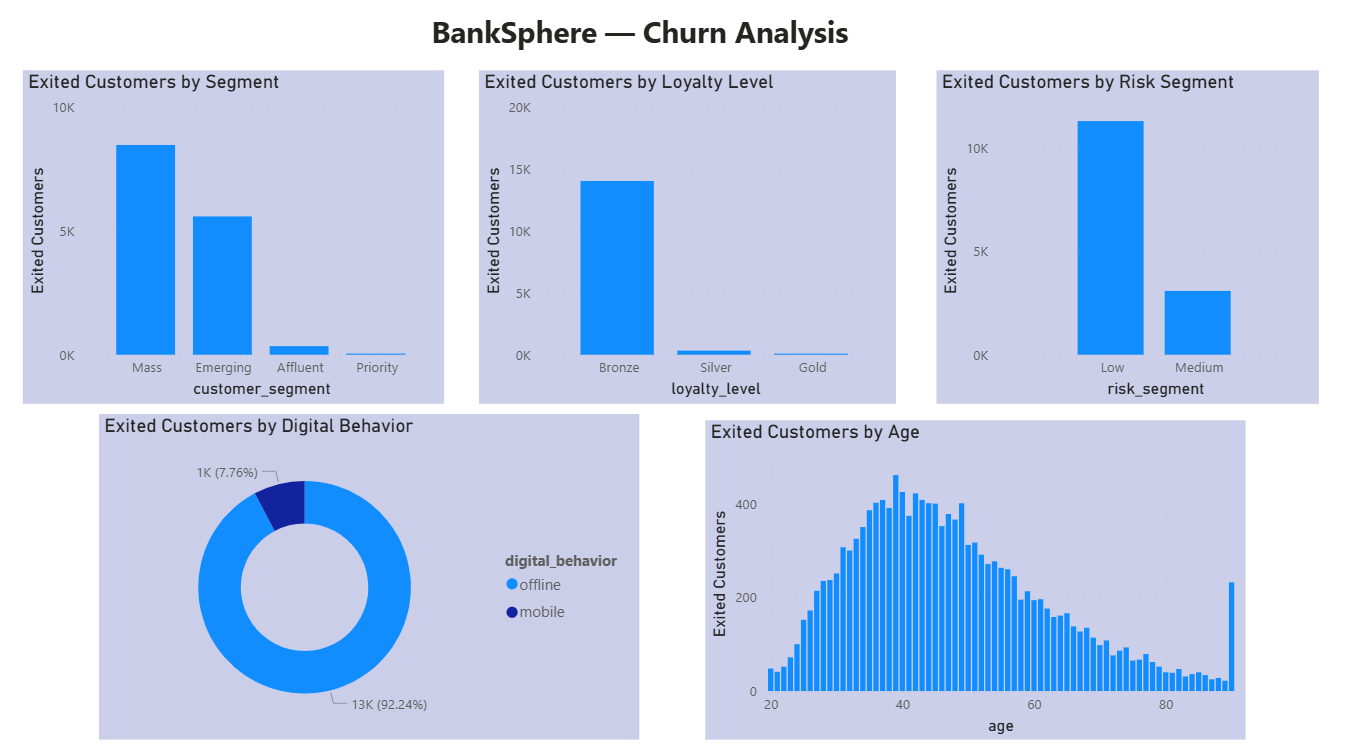

The dashboard page shown, as its layout file describes it:
{"tool":"powerbi","page":{"name":"Churn Analysis","canvas":[1280,720],"ordinal":3},"visuals":[{"type":"textbox","box":[300.5,46.7,625.7,48],"z":0},{"type":"clusteredColumnChart","title":"Exited Customers by Segment","fields":{"Category":["BankCustomers.customer_segment"],"Y":["BankCustomers.Exited Customers"]},"box":[57.6,104.3,380.1,300.5],"z":1000},{"type":"clusteredColumnChart","title":"Exited Customers by Loyalty Level","fields":{"Category":["BankCustomers.loyalty_level"],"Y":["BankCustomers.Exited Customers"]},"box":[469.3,104.3,376,300.5],"z":2000},{"type":"clusteredColumnChart","title":"Exited Customers by Risk Segment","fields":{"Category":["BankCustomers.risk_segment"],"Y":["BankCustomers.Exited Customers"]},"box":[881,104.3,344.4,300.5],"z":3000},{"type":"donutChart","title":"Exited Customers by Digital Behavior","fields":{"Category":["BankCustomers.digital_behavior"],"Y":["BankCustomers.Exited Customers"]},"box":[126.2,414.4,487.1,293.7],"z":4000},{"type":"clusteredColumnChart","title":"Exited Customers by Age","fields":{"Category":["BankCustomers.age"],"Y":["BankCustomers.Exited Customers"]},"box":[672.4,419.9,487.1,288.2],"z":4001}]}

Visuals, with their boxes in screenshot pixels (x1, y1, x2, y2), scaled from the page's 1280x720 canvas onto the 1354x749 screenshot:
textbox: select_region(318, 49, 980, 99)
"Exited Customers by Segment" clusteredColumnChart: select_region(61, 109, 463, 421)
"Exited Customers by Loyalty Level" clusteredColumnChart: select_region(496, 109, 894, 421)
"Exited Customers by Risk Segment" clusteredColumnChart: select_region(932, 109, 1296, 421)
"Exited Customers by Digital Behavior" donutChart: select_region(133, 431, 649, 737)
"Exited Customers by Age" clusteredColumnChart: select_region(711, 437, 1227, 737)
